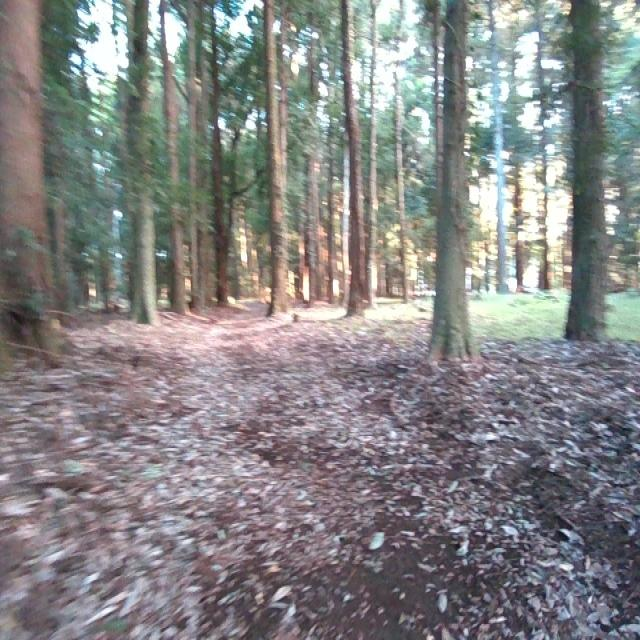tree: (0, 0, 80, 372), (426, 0, 483, 370), (562, 0, 614, 344), (122, 0, 165, 333), (259, 0, 297, 322), (332, 0, 369, 324), (164, 0, 197, 320), (210, 0, 237, 317), (510, 0, 533, 296), (305, 0, 327, 308), (490, 0, 513, 293), (534, 0, 555, 293)
